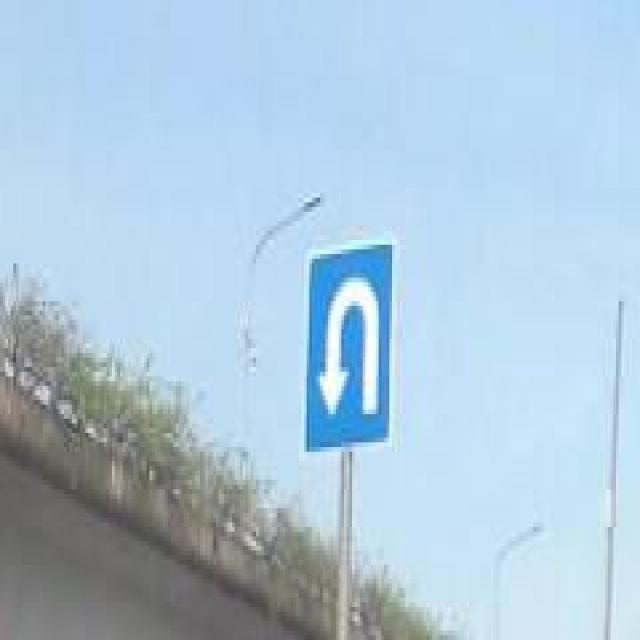U-turn: (303, 248, 394, 450)
